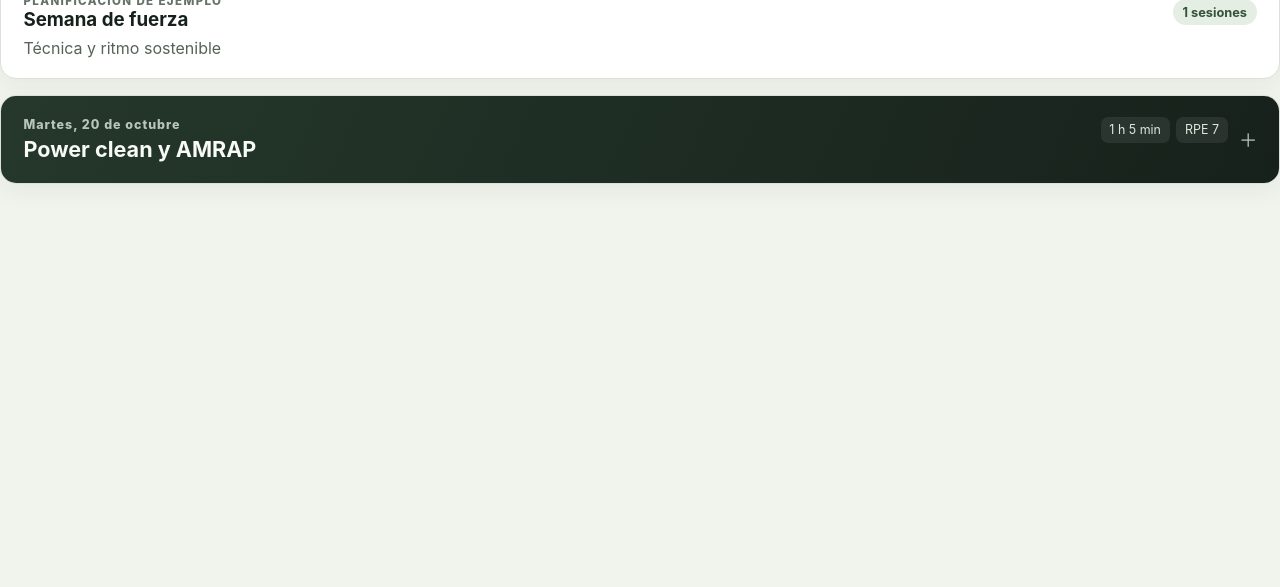
Scenario: PlanningWeekScreen › renders the AMRAP block format without a format-only prescription
Expected: the heading "Semana de fuerza" is shown, [23,8,188,31]
Click the heading "Power clean y AMRAP". click: [140, 149]
box: [23,136,256,162]
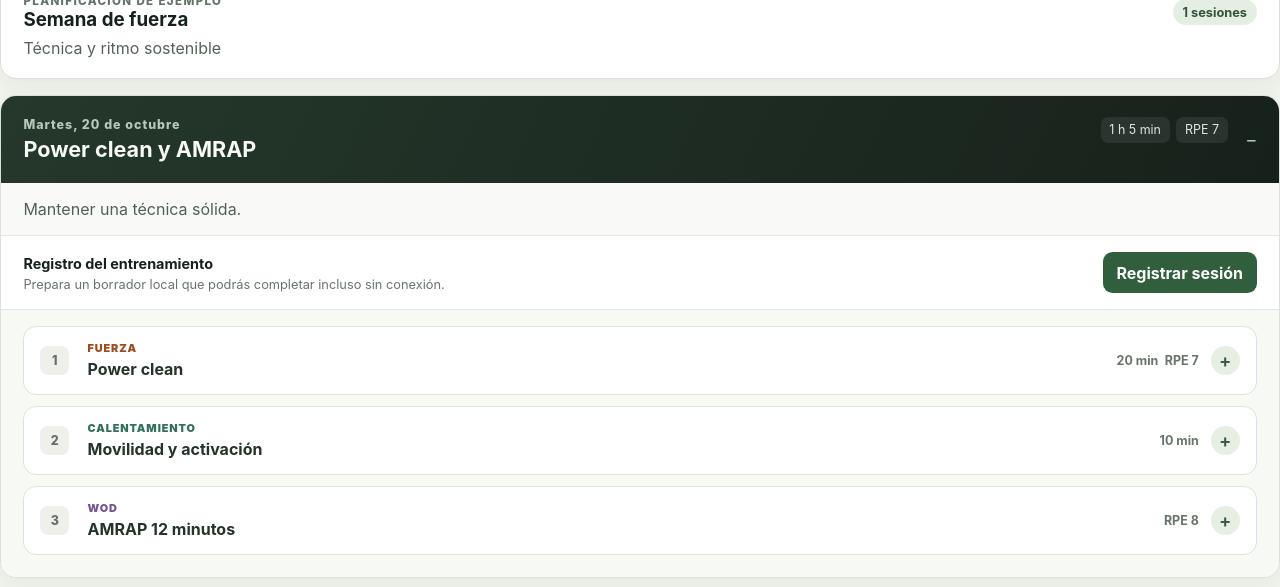
Click the button with aria-label "WOD: AMRAP 12 minutos". click: [103, 508]
box: [24,487,1256,554]
(page scrolled)
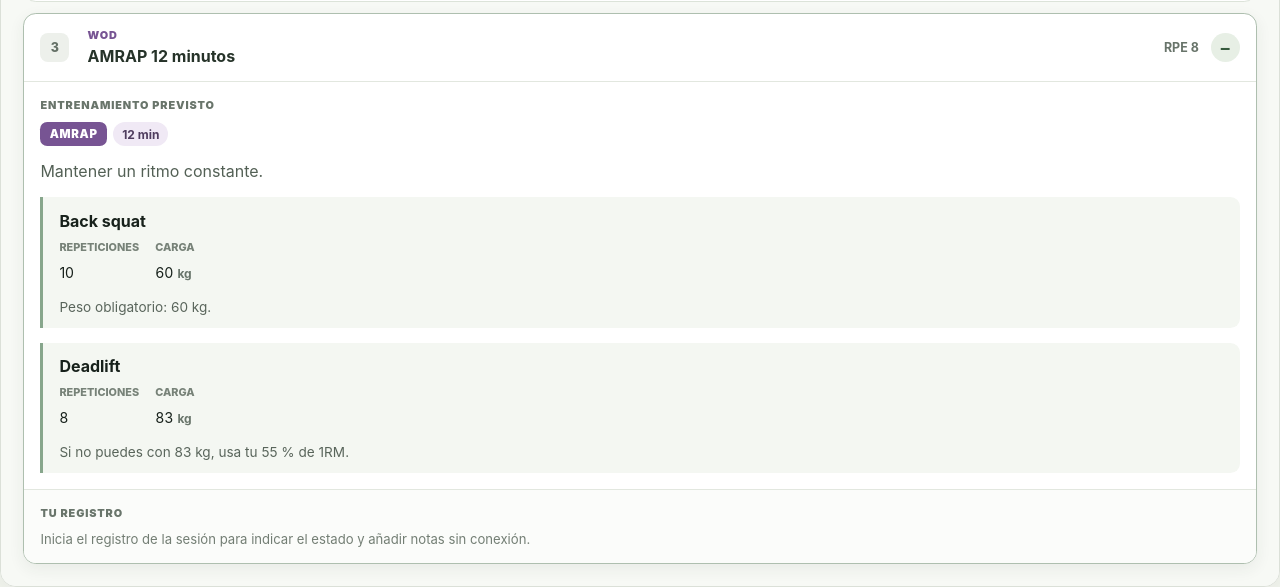
Now the text "AMRAP" is shown, box [40,122,107,146]
Now the text "12 min" is shown, box [113,122,168,146]
Now the text "Carga" is shown 2 times, box [155,240,195,254]; [155,385,195,399]
